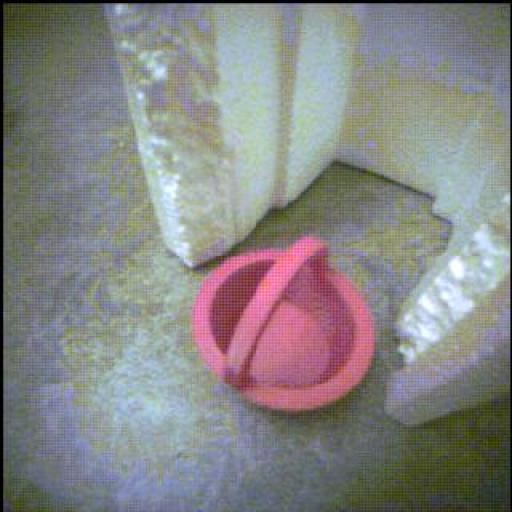Bucket: (193, 238, 375, 412)
